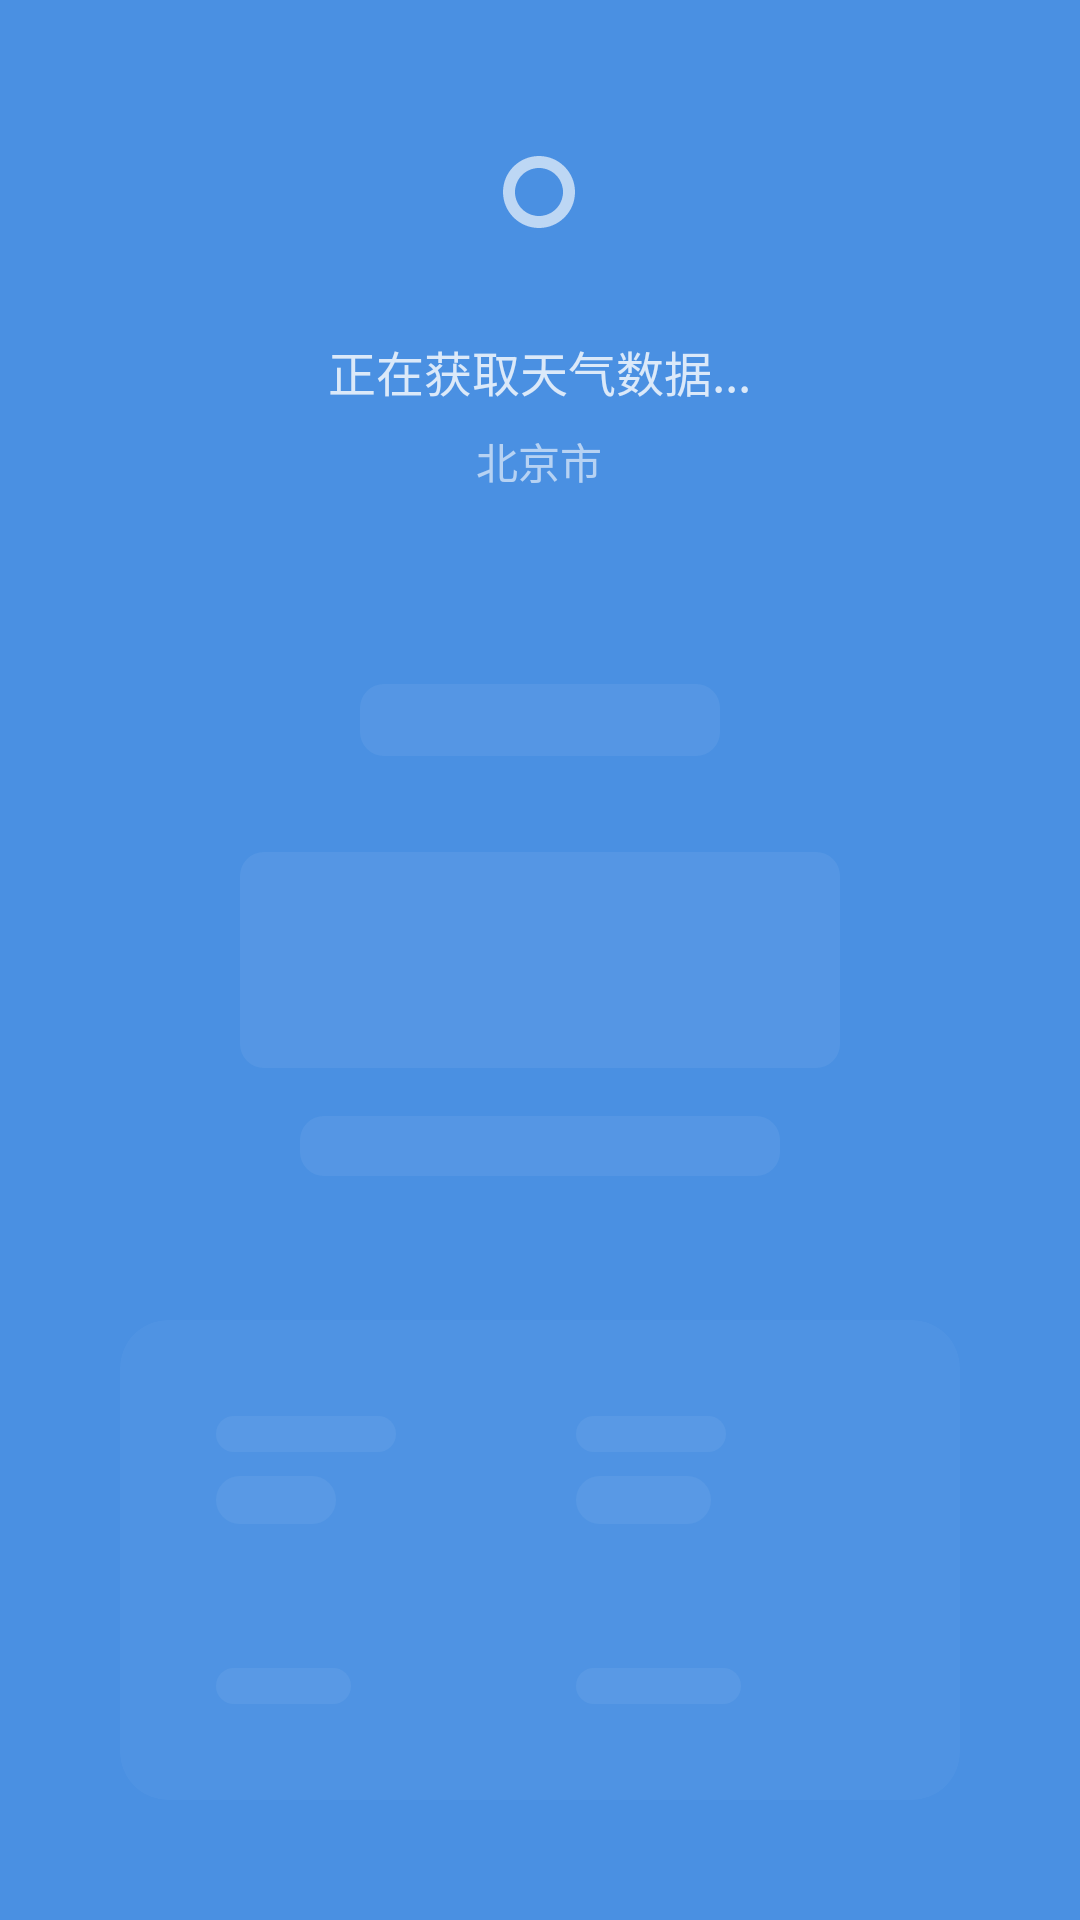

Named icons in this screenshot (1080w x 1920h) and their centers, (x=x, y=y):
weather loading: (x=539, y=192)
